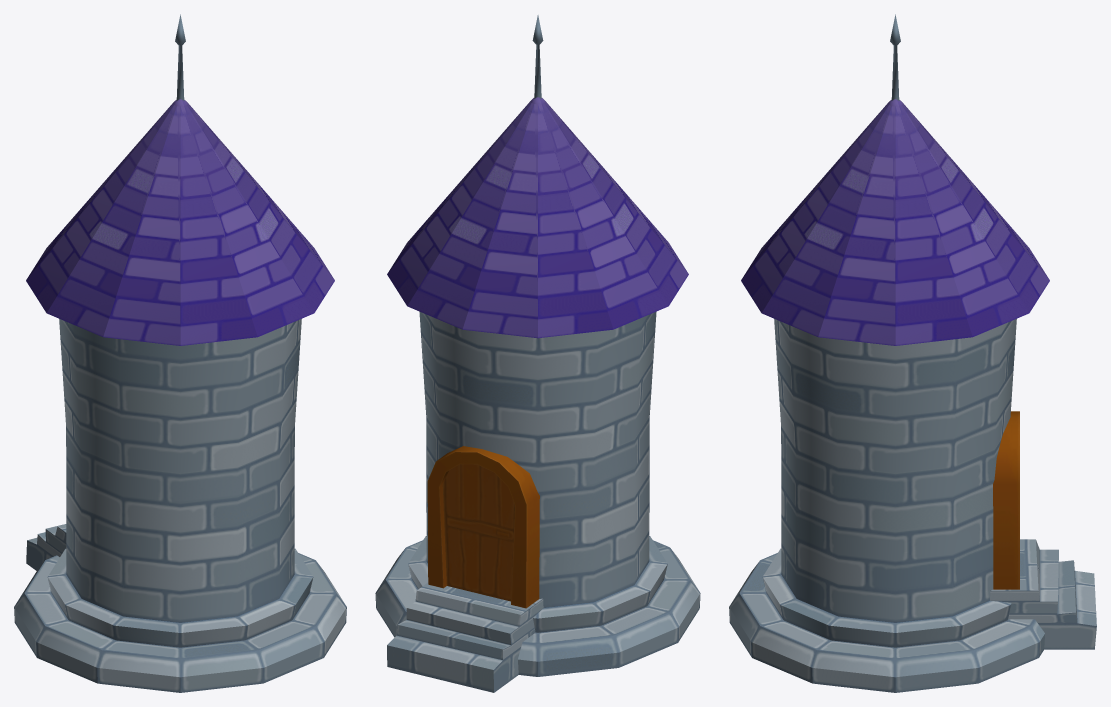
File: HOS0110022.fbx
3 renders of one model, left to right at view 1: azimuth 30°, elevation 25°; view 2: azimuth 150°, elevation 25°; view 3: azimuth 270°, elevation 25°, orthographic. The views are drawn at different scales.
Visible parts, largest first — view 1: smHOS0110022; view 2: smHOS0110022; view 3: smHOS0110022.
Boxes of the visible parts, x1,y1,x2,y2 form: smHOS0110022: [14, 14, 346, 692]; smHOS0110022: [375, 15, 700, 692]; smHOS0110022: [729, 14, 1096, 692].
Size of the model in its own units: 462 by 933 by 511.
1 material, 1 textured.
